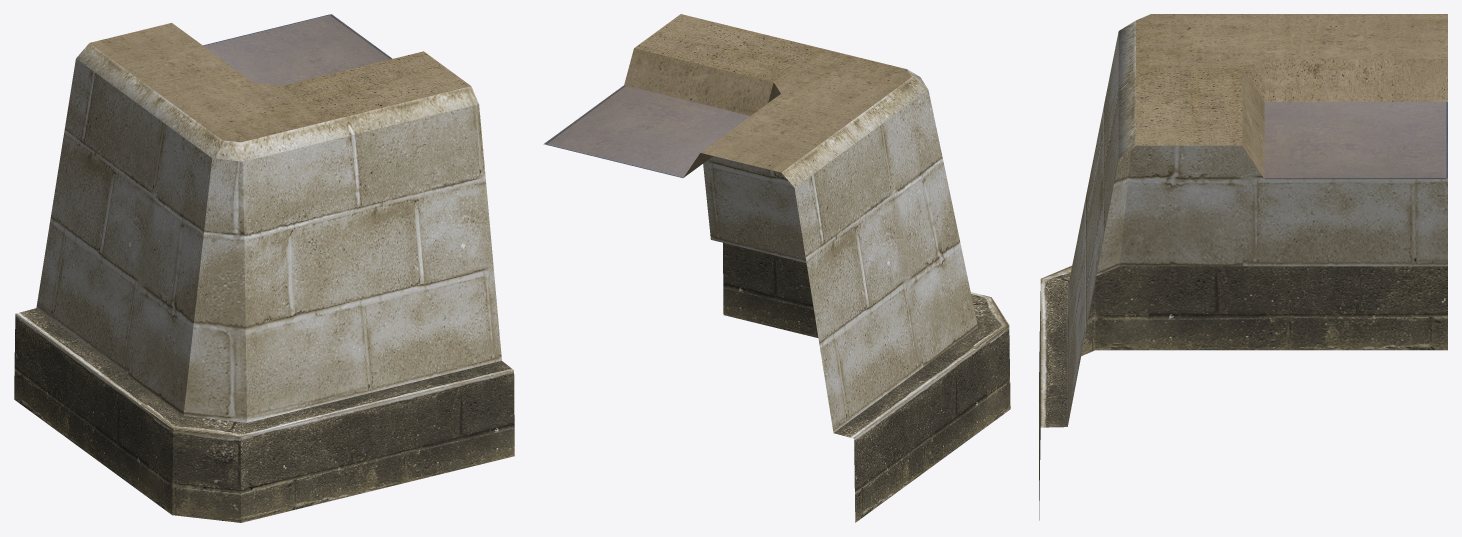
Rendered from castle-wall-edge-1-half.fbx.
The picture shows the model from 3 angles, left to right: view 1: azimuth 30°, elevation 25°; view 2: azimuth 150°, elevation 25°; view 3: azimuth 270°, elevation 25°; orthographic projection. The views are drawn at different scales.
Parts seen in each view (by area): view 1: castle-wall-edge-1-half; view 2: castle-wall-edge-1-half; view 3: castle-wall-edge-1-half.
Boxes of the visible parts, left/top/right/bottom form: castle-wall-edge-1-half: left=14, top=14, right=514, bottom=522; castle-wall-edge-1-half: left=543, top=14, right=1010, bottom=522; castle-wall-edge-1-half: left=1039, top=14, right=1447, bottom=520.
Bounding box in the file's own units: 169 × 172 × 169.
